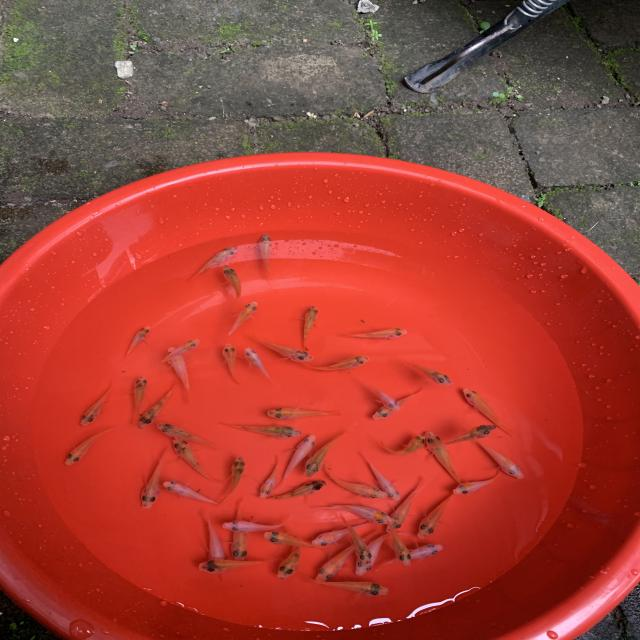nila: (310, 530, 374, 588), (298, 421, 354, 481), (272, 431, 325, 491), (349, 520, 404, 573), (324, 462, 398, 500), (459, 383, 512, 436), (360, 448, 411, 503), (175, 243, 238, 287), (137, 442, 176, 513), (426, 431, 470, 493), (162, 339, 202, 406), (61, 422, 118, 469), (170, 432, 222, 483), (207, 450, 250, 510), (472, 436, 528, 481), (320, 574, 398, 606), (417, 486, 464, 539), (136, 377, 182, 431), (388, 473, 430, 530), (216, 415, 307, 441), (265, 531, 308, 584), (75, 378, 120, 428), (260, 476, 334, 506), (158, 476, 222, 510), (154, 417, 223, 448), (432, 420, 502, 450), (378, 543, 448, 573), (322, 500, 398, 527), (374, 382, 426, 421), (252, 333, 321, 362), (338, 509, 372, 567), (451, 461, 507, 496), (262, 529, 334, 556), (250, 446, 283, 502), (311, 516, 374, 545), (337, 322, 415, 345), (298, 350, 372, 374), (354, 375, 402, 411), (397, 358, 454, 388), (221, 514, 298, 536), (380, 524, 419, 566), (194, 511, 224, 565), (191, 556, 272, 576), (153, 336, 202, 368), (267, 401, 341, 422), (125, 369, 151, 428), (237, 344, 277, 382), (295, 302, 325, 352), (217, 339, 246, 390), (228, 498, 251, 561), (227, 298, 262, 337), (213, 265, 247, 302), (378, 432, 426, 457), (118, 324, 150, 361), (256, 232, 275, 276)
